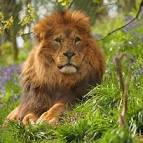lion: (14, 14, 108, 138)
